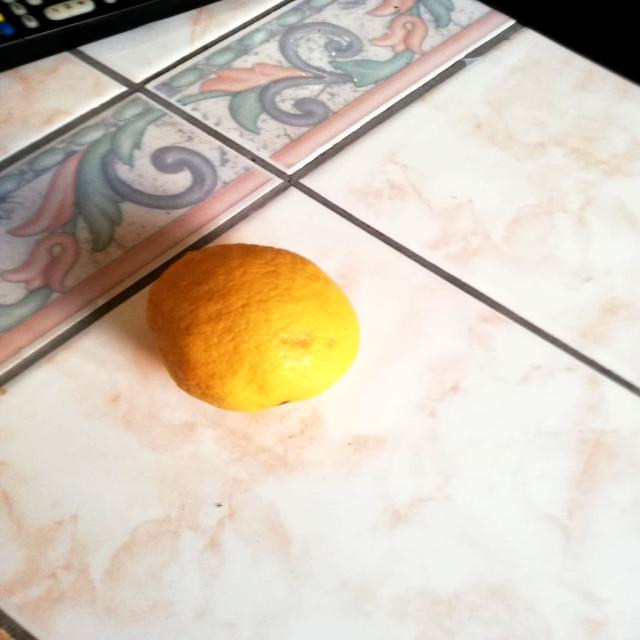lemon: (132, 234, 369, 417)
